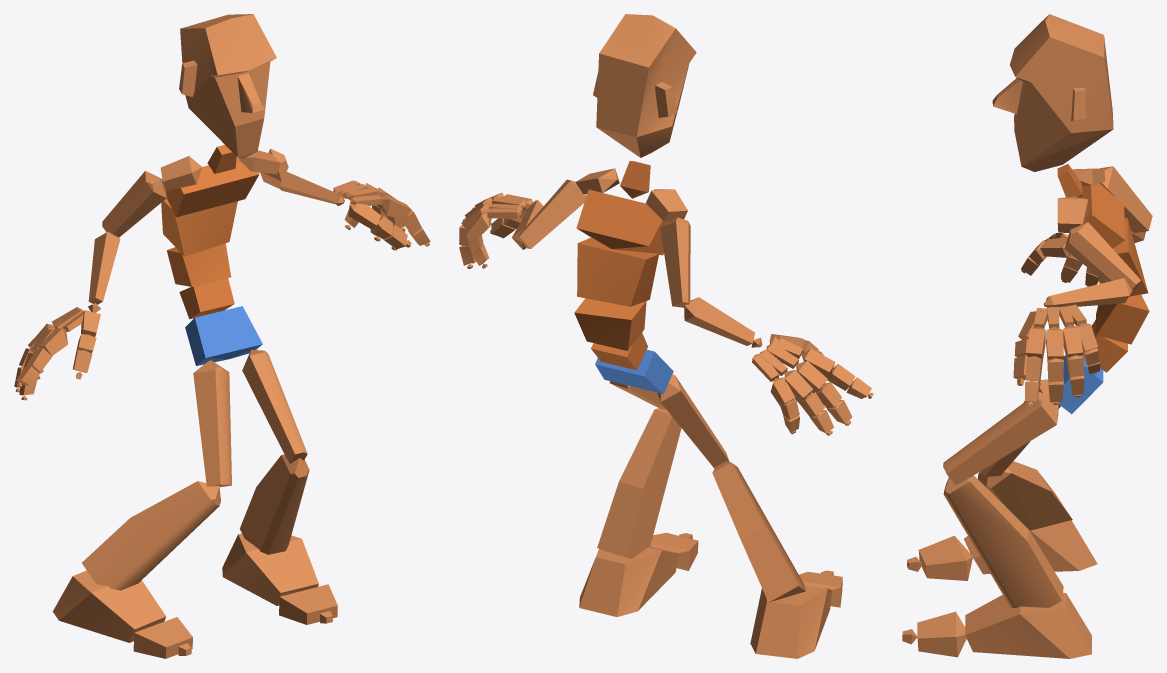
File: prueba294.obj
3 views of the same model, side by side, from view 1: azimuth 30°, elevation 25°; view 2: azimuth 150°, elevation 25°; view 3: azimuth 270°, elevation 25° (orthographic). The views are drawn at different scales.
Parts seen in each view (by area): view 1: BOPED_Head, BOPED_R_leg, BOPED_R_foot, BOPED_L_leg, BOPED_R_foot01, BOPED_R_legup, Bone01, BOPED_L_legup, Bone04, Bone05, BOPED_R_arm_upper, Bone03 (+8 smaller); view 2: BOPED_Head, BOPED_L_leg, BOPED_R_leg, BOPED_R_foot01, BOPED_R_foot, Bone04, Bone05, Bone03, BOPED_R_legup, BOPED_R_arm_upper, BOPED_L_arm_upper, Bone01 (+7 smaller); view 3: BOPED_Head, BOPED_L_leg, BOPED_R_foot01, BOPED_L_legup, BOPED_R_leg, BOPED_R_foot, BOPED_L_arm_upper, Bone05, Bone03, BOPED_R_foot_toe01, BOPED_R_foot_toe04, BOPED_L_arm_fore (+15 smaller).
Part boxes in pixels (x1=…): BOPED_Head: x1=179, y1=14, x2=276, y2=158; BOPED_R_leg: x1=82, y1=481, x2=220, y2=590; BOPED_R_foot: x1=52, y1=570, x2=166, y2=642; BOPED_L_leg: x1=240, y1=454, x2=309, y2=554; BOPED_R_foot01: x1=222, y1=533, x2=318, y2=605; BOPED_R_legup: x1=193, y1=360, x2=231, y2=486; Bone01: x1=185, y1=306, x2=262, y2=365; BOPED_L_legup: x1=242, y1=349, x2=307, y2=463; Bone04: x1=161, y1=198, x2=237, y2=256; Bone05: x1=166, y1=157, x2=259, y2=217; BOPED_R_arm_upper: x1=102, y1=171, x2=166, y2=237; Bone03: x1=167, y1=243, x2=231, y2=286; BOPED_Head: x1=593, y1=14, x2=696, y2=157; BOPED_L_leg: x1=597, y1=408, x2=681, y2=559; BOPED_R_leg: x1=712, y1=461, x2=805, y2=602; BOPED_R_foot01: x1=579, y1=546, x2=679, y2=616; BOPED_R_foot: x1=750, y1=585, x2=831, y2=658; Bone04: x1=577, y1=237, x2=658, y2=306; Bone05: x1=576, y1=189, x2=669, y2=255; Bone03: x1=574, y1=298, x2=646, y2=350; BOPED_R_legup: x1=657, y1=374, x2=729, y2=468; BOPED_R_arm_upper: x1=660, y1=217, x2=690, y2=307; BOPED_L_arm_upper: x1=517, y1=179, x2=586, y2=248; Bone01: x1=595, y1=349, x2=673, y2=394; BOPED_Head: x1=992, y1=14, x2=1113, y2=171; BOPED_L_leg: x1=943, y1=475, x2=1063, y2=607; BOPED_R_foot01: x1=965, y1=592, x2=1091, y2=658; BOPED_L_legup: x1=943, y1=392, x2=1058, y2=484; BOPED_R_leg: x1=978, y1=461, x2=1072, y2=530; BOPED_R_foot: x1=964, y1=520, x2=1097, y2=574; BOPED_L_arm_upper: x1=1064, y1=222, x2=1140, y2=292; Bone05: x1=1081, y1=183, x2=1125, y2=248; Bone03: x1=1096, y1=294, x2=1149, y2=344; BOPED_R_foot_toe01: x1=918, y1=535, x2=973, y2=580; BOPED_R_foot_toe04: x1=917, y1=611, x2=966, y2=657; BOPED_L_arm_fore: x1=1046, y1=278, x2=1132, y2=307.
Size of the model in its own units: 130 by 175 by 65.15.
